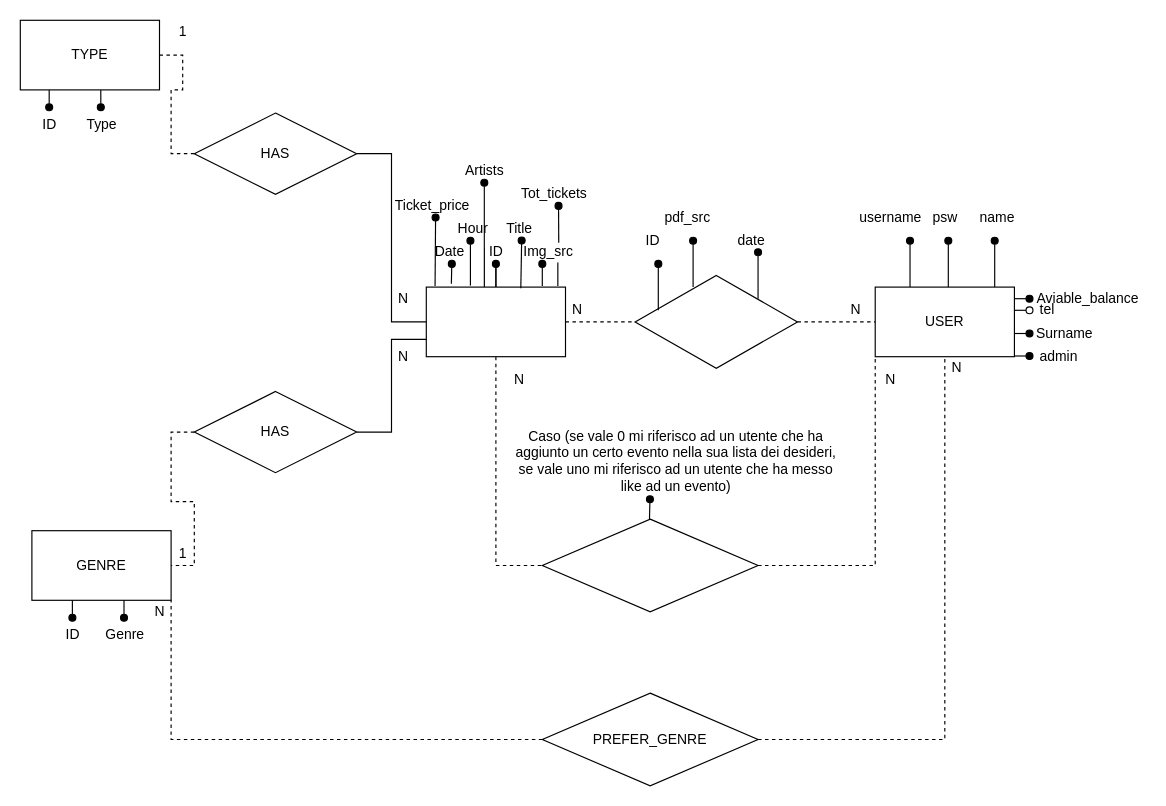
The diagram is 1166 pixels wide and 806 high, and some of its shapes have lost their labels. Here are the shapes that lost their labels. From the top down, the box of each, then its label:
(425, 286, 566, 357): EVENT
(634, 274, 798, 368): TICKET
(541, 518, 758, 612): PREFER_EVENT
